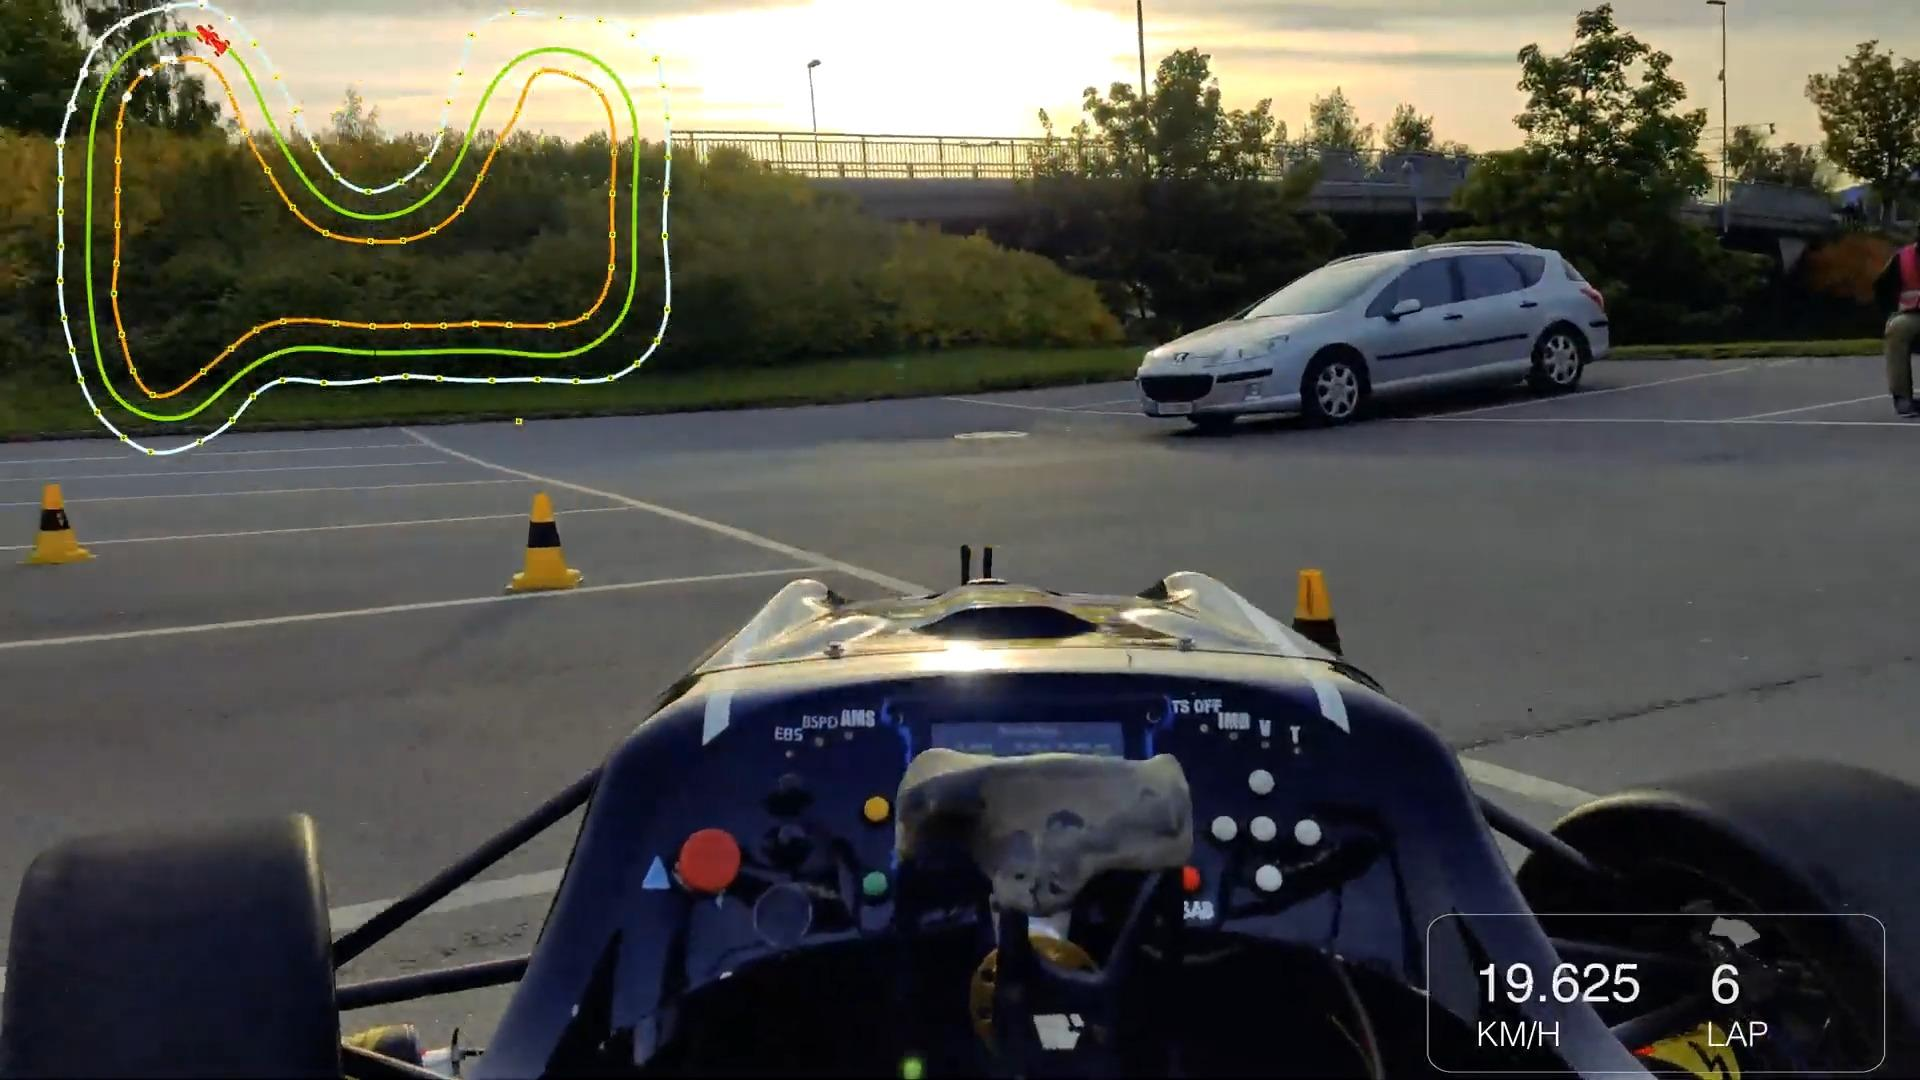yellow_cone: (505, 489, 591, 595), (22, 481, 100, 571), (1275, 562, 1352, 653)
